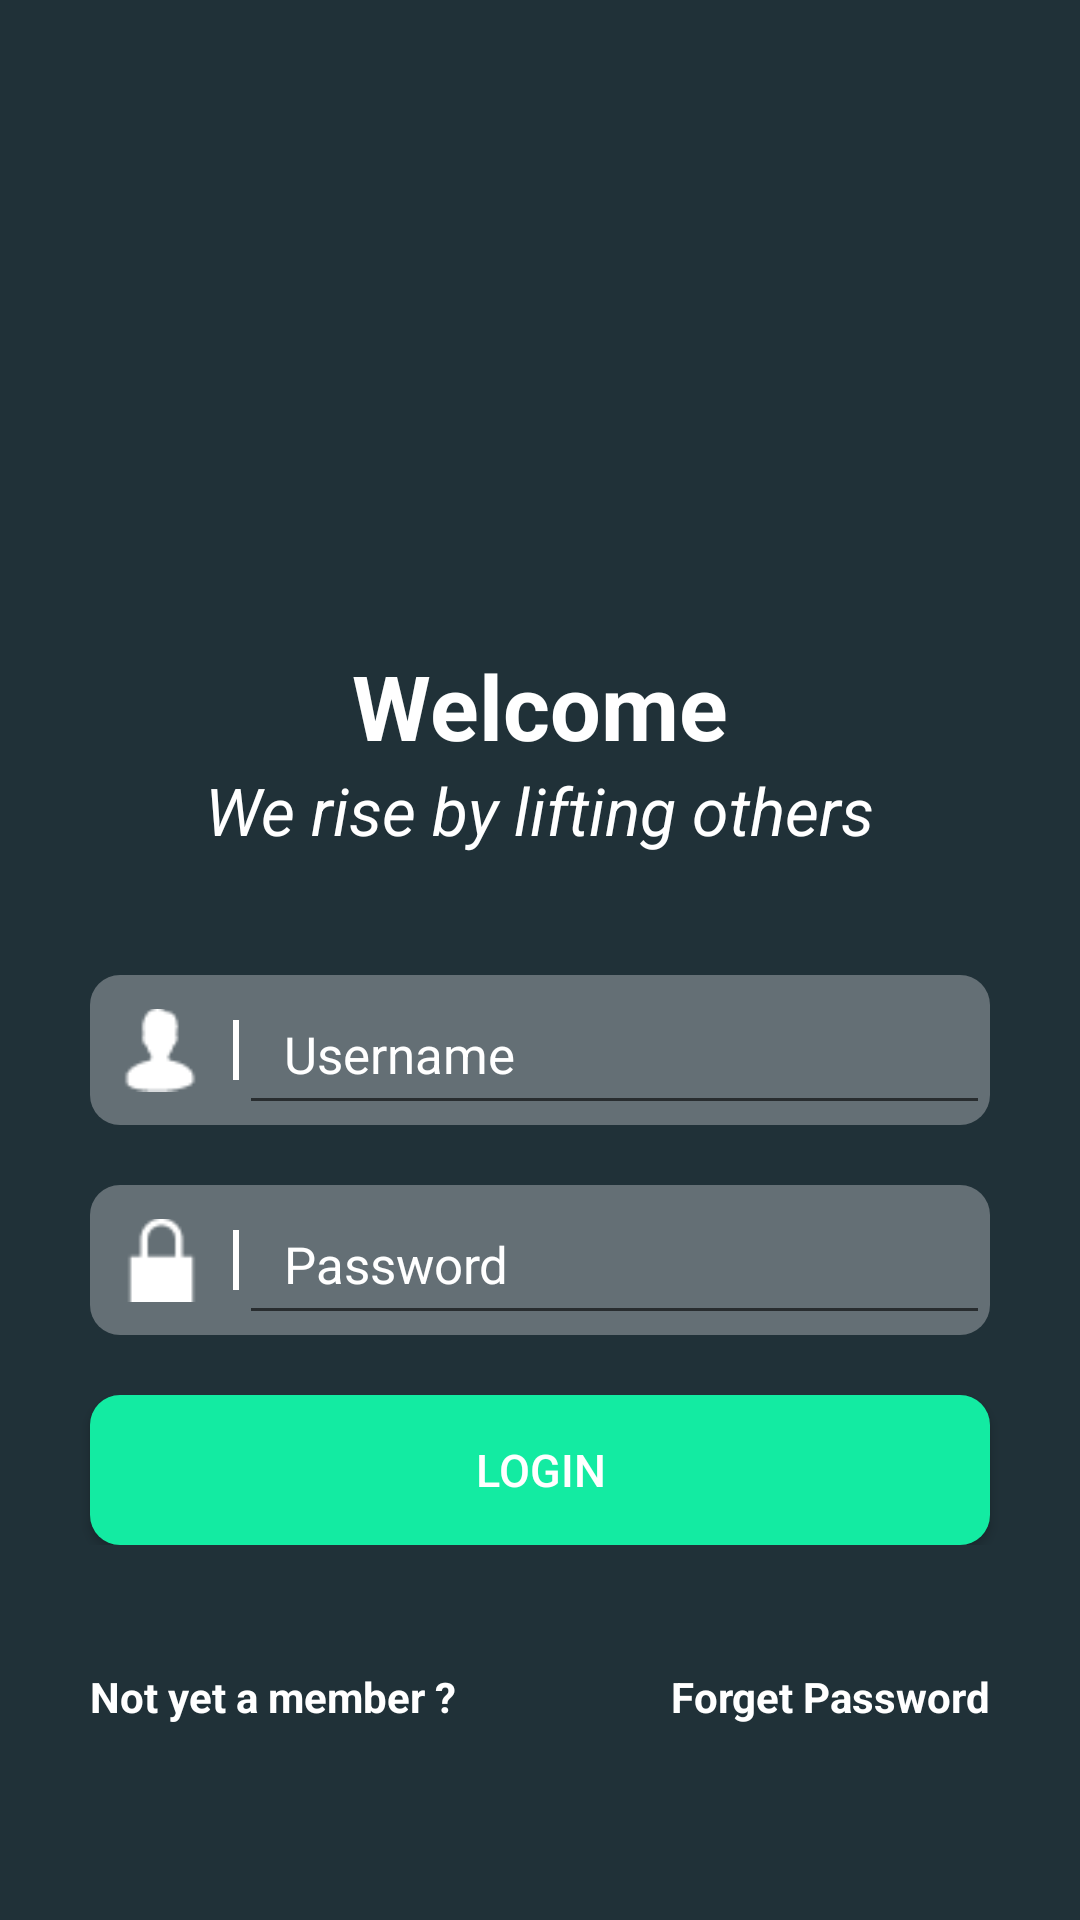

Named icons in this screenshot (1080 × 1920) and their centers, (x,y):
lock thirty: (161,1260)
user male: (160,1050)
